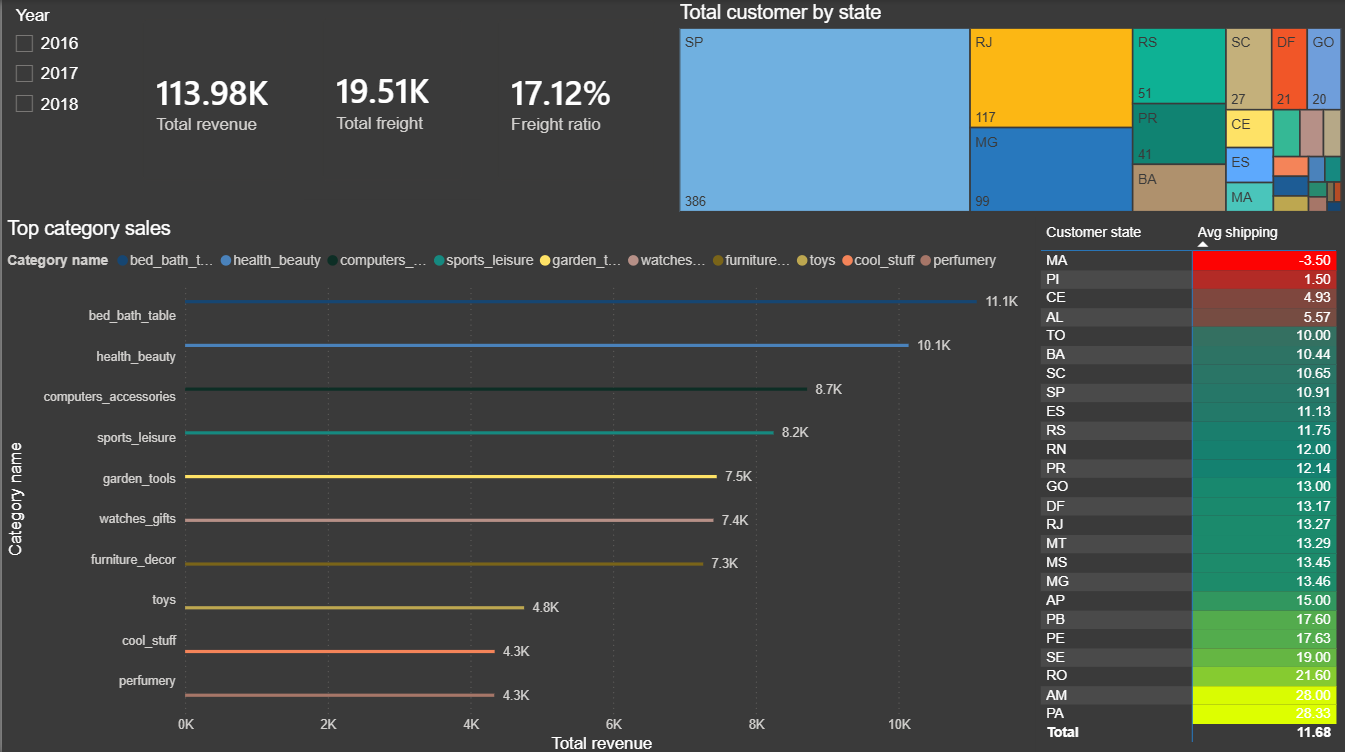

What the dashboard file says about the page in this screenshot:
{"tool":"powerbi","page":{"name":"Sales & Logistics Overview ","canvas":[1280,720],"ordinal":0},"visuals":[{"type":"cardVisual","fields":{"Data":["olist_final_analysis.Total_Revenue"]},"box":[116.3,1.2,171.4,188.5],"z":0},{"type":"cardVisual","fields":{"Data":["olist_final_analysis.Total_Freight"]},"box":[287.6,0,167.7,189.7],"z":1000},{"type":"treemap","title":"Total customer by state","fields":{"Group":["olist_final_analysis.customer_state"],"Values":["olist_final_analysis.Customer Count"]},"box":[640.1,1.2,640.1,205.6],"z":2000},{"type":"pivotTable","fields":{"Rows":["olist_final_analysis.customer_state"],"Values":["olist_final_analysis.Avg_Shipping_Performance"]},"box":[984.1,206.8,296.2,512.8],"z":3000},{"type":"cardVisual","fields":{"Data":["olist_final_analysis.Freight_Ratio"]},"box":[455.3,1.2,184.8,188.5],"z":4000},{"type":"clusteredBarChart","title":"Top category sales","fields":{"Category":["olist_final_analysis.category_name"],"Y":["olist_final_analysis.Total_Revenue"],"Series":["olist_final_analysis.category_name"]},"box":[0,206.8,984.1,514.1],"z":5000},{"type":"slicer","fields":{"Values":["olist_final_analysis.purchase_date.Variation.Date Hierarchy.Year"]},"box":[0,1.2,116.3,188.5],"z":6000}]}

Visuals, with their boxes in screenshot pixels (x1, y1, x2, y2), scaled from the page's 1280x720 canvas onto the 1345x752 screenshot:
cardVisual - olist_final_analysis.Total_Revenue: <bbox>122, 1, 302, 198</bbox>
cardVisual - olist_final_analysis.Total_Freight: <bbox>302, 0, 478, 198</bbox>
"Total customer by state" treemap: <bbox>673, 1, 1344, 216</bbox>
pivotTable - olist_final_analysis.customer_state x olist_final_analysis.Avg_Shipping_Performance: <bbox>1034, 216, 1344, 751</bbox>
cardVisual - olist_final_analysis.Freight_Ratio: <bbox>478, 1, 673, 198</bbox>
"Top category sales" clusteredBarChart: <bbox>0, 216, 1034, 751</bbox>
slicer - olist_final_analysis.purchase_date.Variation.Date Hierarchy.Year: <bbox>0, 1, 122, 198</bbox>
